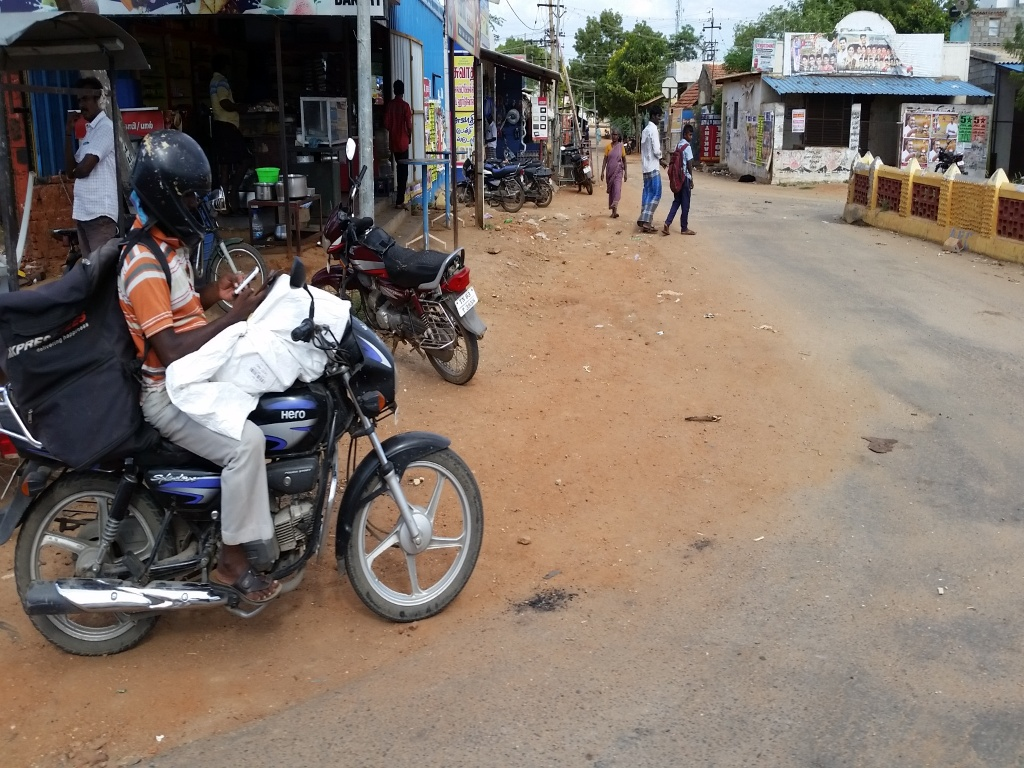biker: (1, 91, 501, 671)
helmet: (121, 120, 227, 252)
